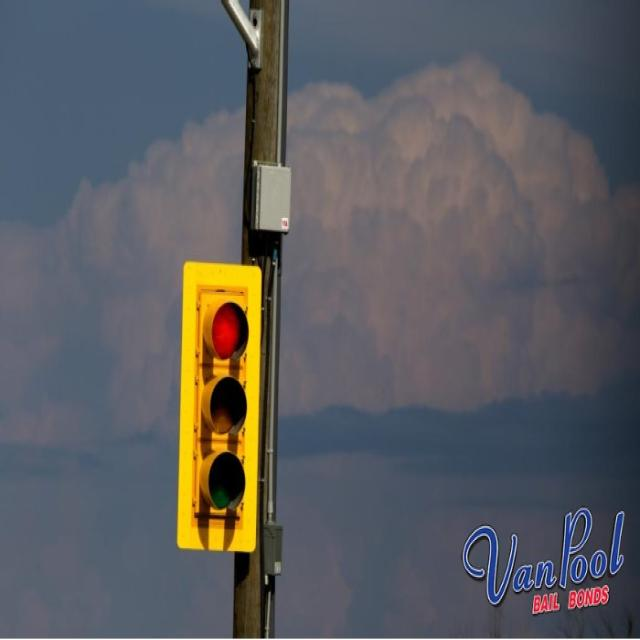red: (201, 292, 250, 369)
